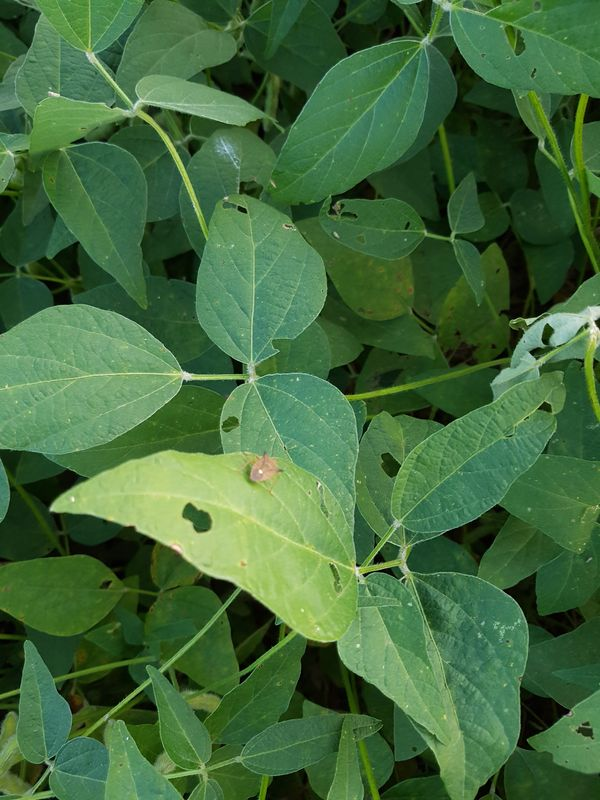Euschistus_heros_adulto: (237, 446, 293, 498)
